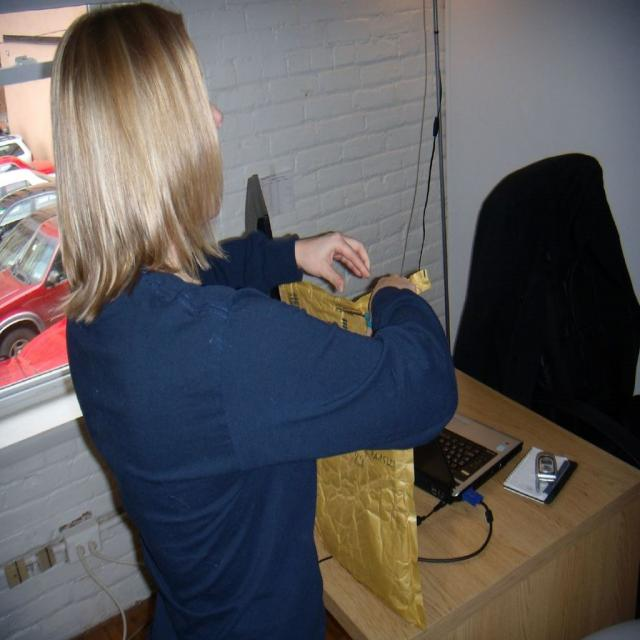chair: (452, 152, 640, 468)
desk: (363, 362, 640, 632)
laptop: (414, 412, 524, 503)
person: (51, 0, 455, 639)
